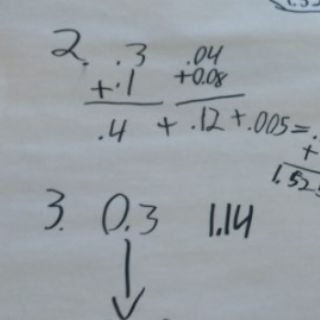.: (215, 226, 222, 235)
1: (202, 201, 216, 238), (198, 102, 207, 131)
2: (45, 24, 84, 59), (206, 103, 226, 132)
3: (122, 37, 149, 69)
4: (233, 201, 256, 239), (207, 42, 226, 65)
